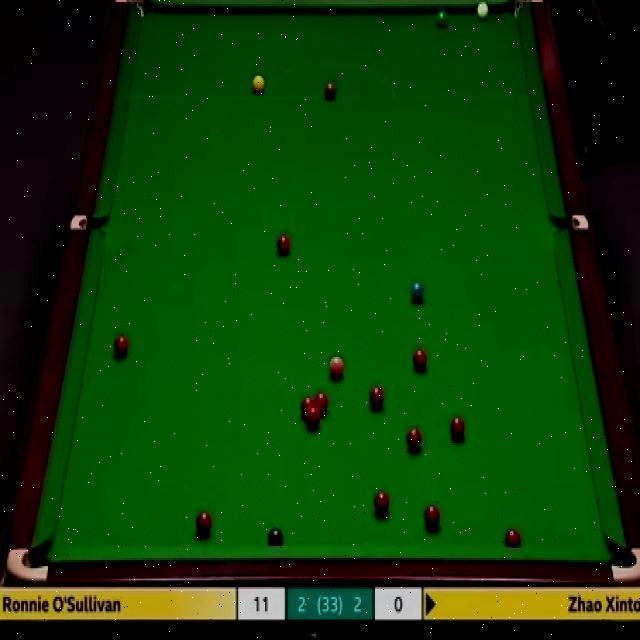black-ball: (267, 526, 286, 548)
blue-ball: (409, 282, 424, 303)
brown-ball: (324, 78, 336, 99)
green-ball: (435, 10, 449, 29)
pink-ball: (328, 356, 346, 381)
red-ball: (449, 414, 468, 441), (424, 504, 442, 532), (366, 382, 384, 409), (194, 509, 212, 536), (412, 346, 429, 372), (373, 491, 390, 517), (407, 427, 423, 453), (300, 396, 315, 421), (277, 231, 290, 259), (113, 332, 128, 356), (315, 391, 328, 416), (504, 527, 522, 545), (306, 409, 322, 429)
white-ball: (477, 1, 489, 16)
yellow-ball: (252, 76, 264, 93)
